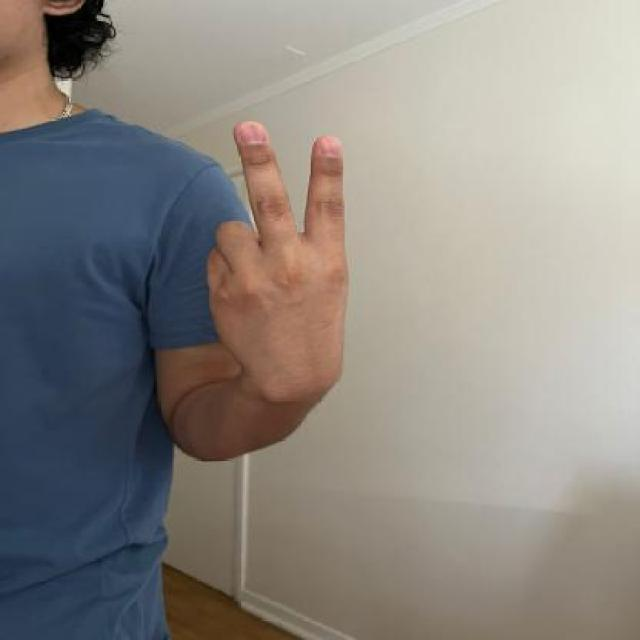V: (195, 114, 362, 391)
